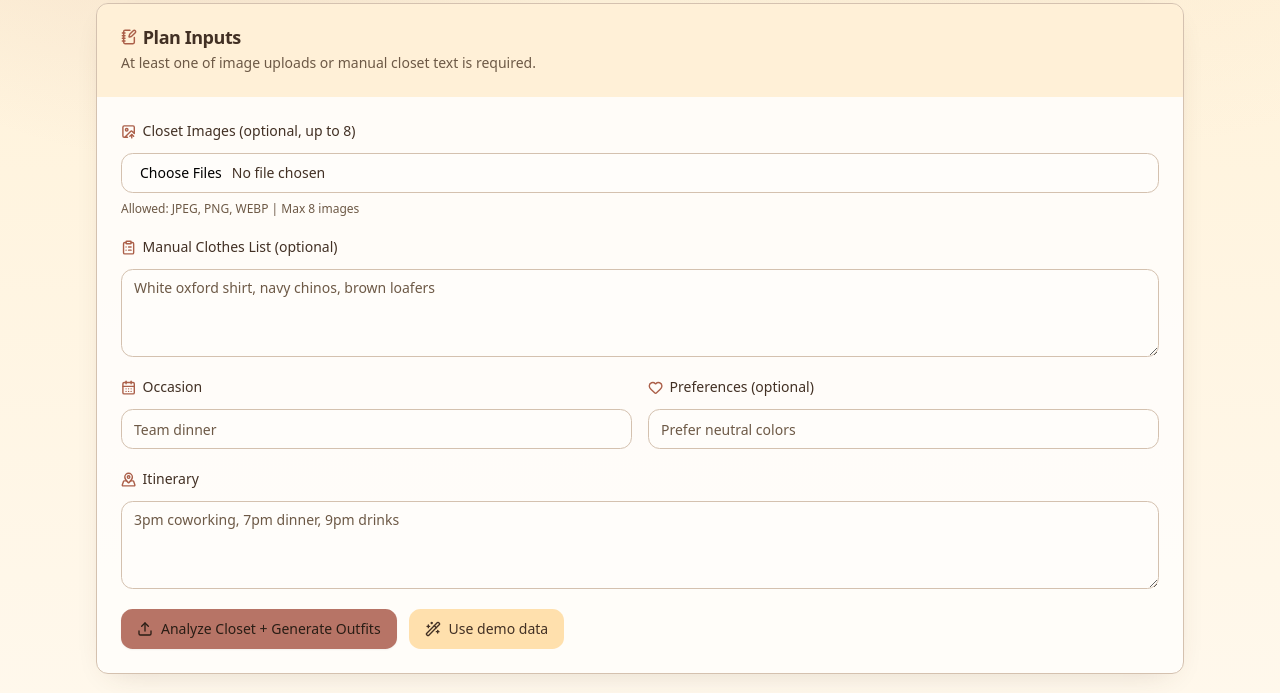
Test: App › renders parsed closet and outfit cards from demo data
(page scrolled)
Step 1. Click the button "Use demo data" → (486, 629), box [409, 609, 564, 649]
(page scrolled)
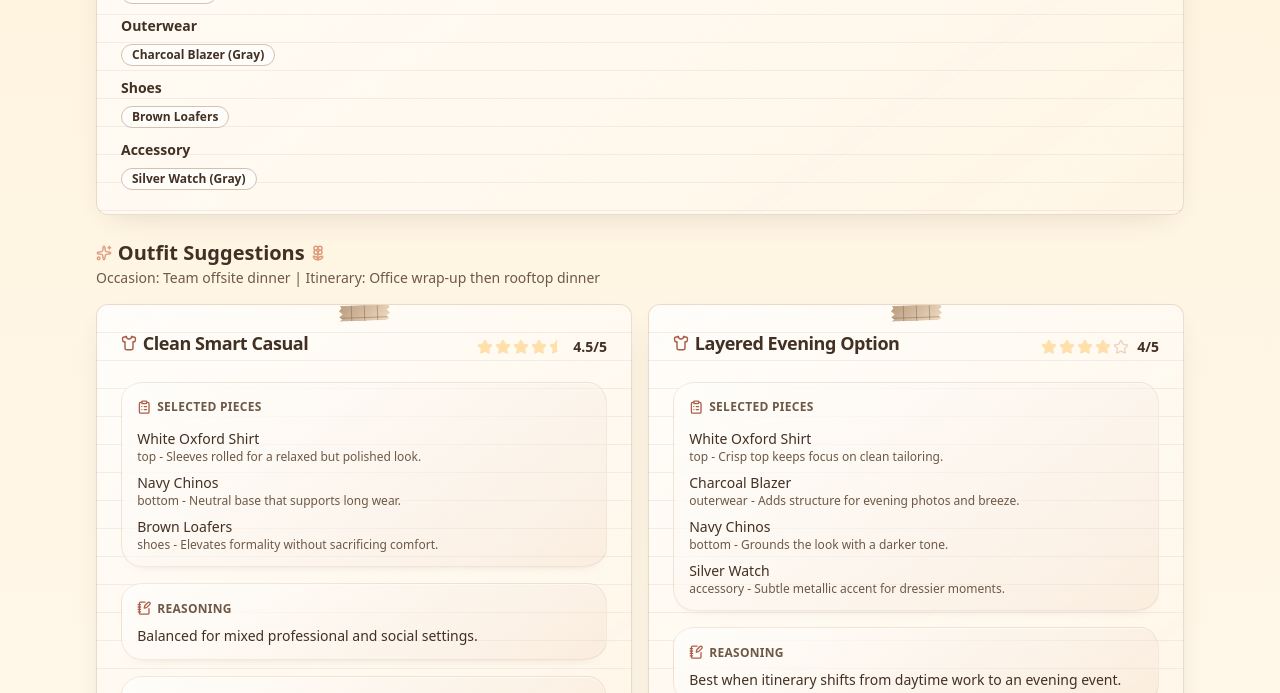
Check: the text "Outfit Suggestions" is shown, box [118, 239, 305, 267]
Check: the text "Clean Smart Casual" is shown, box [143, 329, 308, 357]
Check: the text "4.5/5" is shown, box [573, 336, 607, 356]
